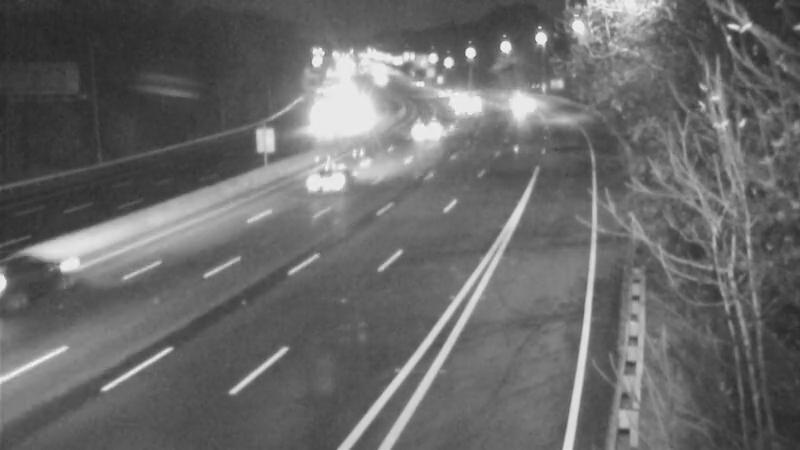vehicle: (294, 141, 374, 221), (1, 248, 76, 328), (493, 70, 543, 120), (432, 66, 482, 116), (445, 79, 495, 129), (427, 84, 477, 134), (414, 101, 464, 151)
